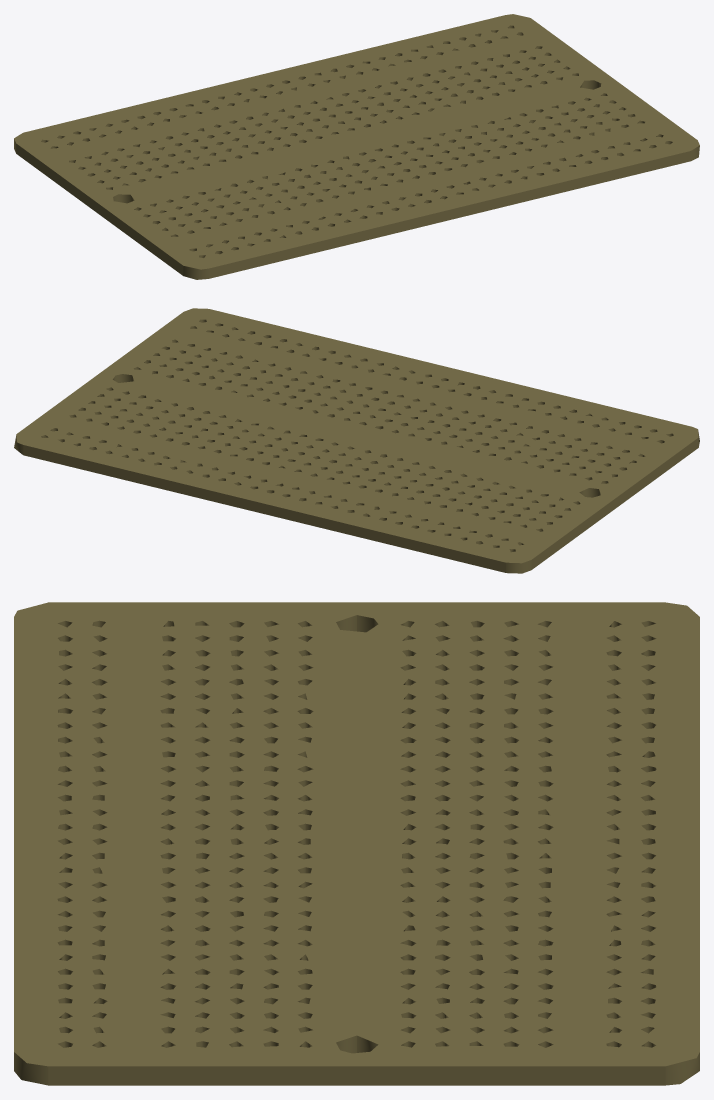
Rendered from ada-1609.glb.
The picture shows the model from 3 angles, top to bottom: view 1: azimuth 30°, elevation 25°; view 2: azimuth 150°, elevation 25°; view 3: azimuth 270°, elevation 25°; orthographic projection. The views are drawn at different scales.
Visible parts, largest first — view 1: 0.16666666666666666_0.16666666666666666_0.08333333333333333_; view 2: 0.16666666666666666_0.16666666666666666_0.08333333333333333_; view 3: 0.16666666666666666_0.16666666666666666_0.08333333333333333_.
Part boxes in pixels (x1=…): 0.16666666666666666_0.16666666666666666_0.08333333333333333_: x1=14, y1=14, x2=699, y2=279; 0.16666666666666666_0.16666666666666666_0.08333333333333333_: x1=14, y1=308, x2=699, y2=573; 0.16666666666666666_0.16666666666666666_0.08333333333333333_: x1=14, y1=602, x2=699, y2=1085.
Size of the model in its own units: 8.13 by 0.1568 by 5.08.
